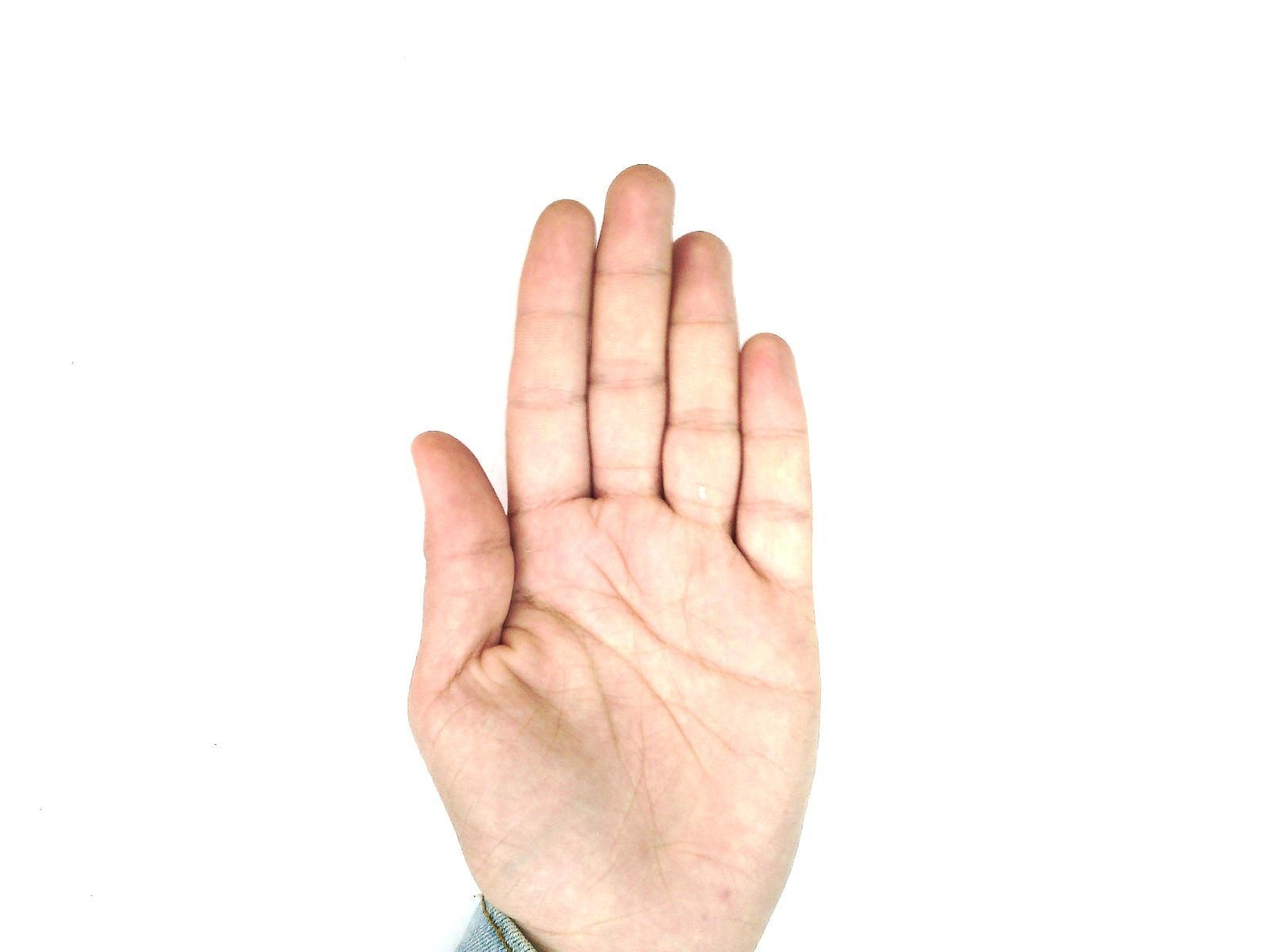open_palm: (404, 163, 826, 951)
